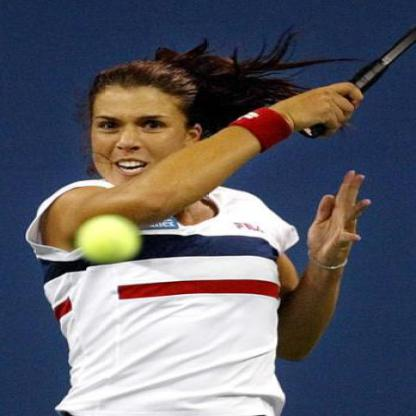face: (87, 65, 191, 195)
